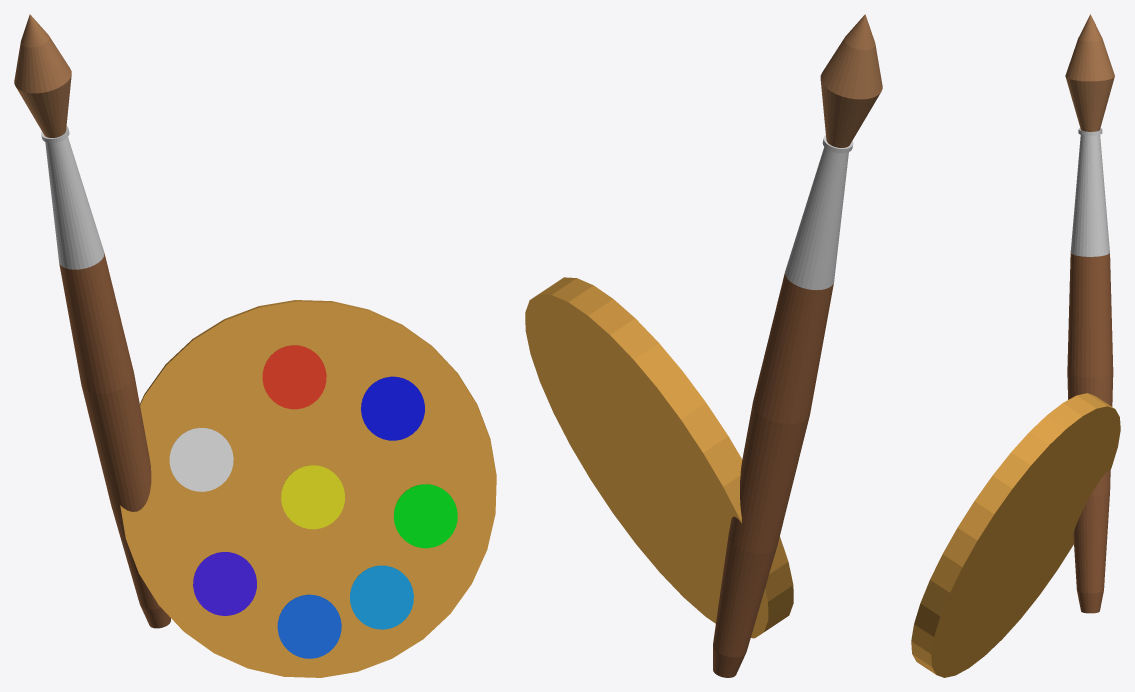
File: artist.glb
3 views of the same model, side by side, from view 1: azimuth 30°, elevation 25°; view 2: azimuth 150°, elevation 25°; view 3: azimuth 270°, elevation 25° (orthographic). The views are drawn at different scales.
Parts seen in each view (by area): view 1: grip_pos, grip_neg; view 2: grip_pos, grip_neg; view 3: grip_pos, grip_neg.
Part boxes in pixels (<box>): grip_pos: <box>120,300,496,677</box>; grip_neg: <box>14,14,170,628</box>; grip_pos: <box>525,277,793,638</box>; grip_neg: <box>713,14,882,677</box>; grip_pos: <box>911,393,1120,677</box>; grip_neg: <box>1065,14,1114,613</box>.
Bounding box in the file's own units: 0.2119 × 0.3384 × 0.1141.
